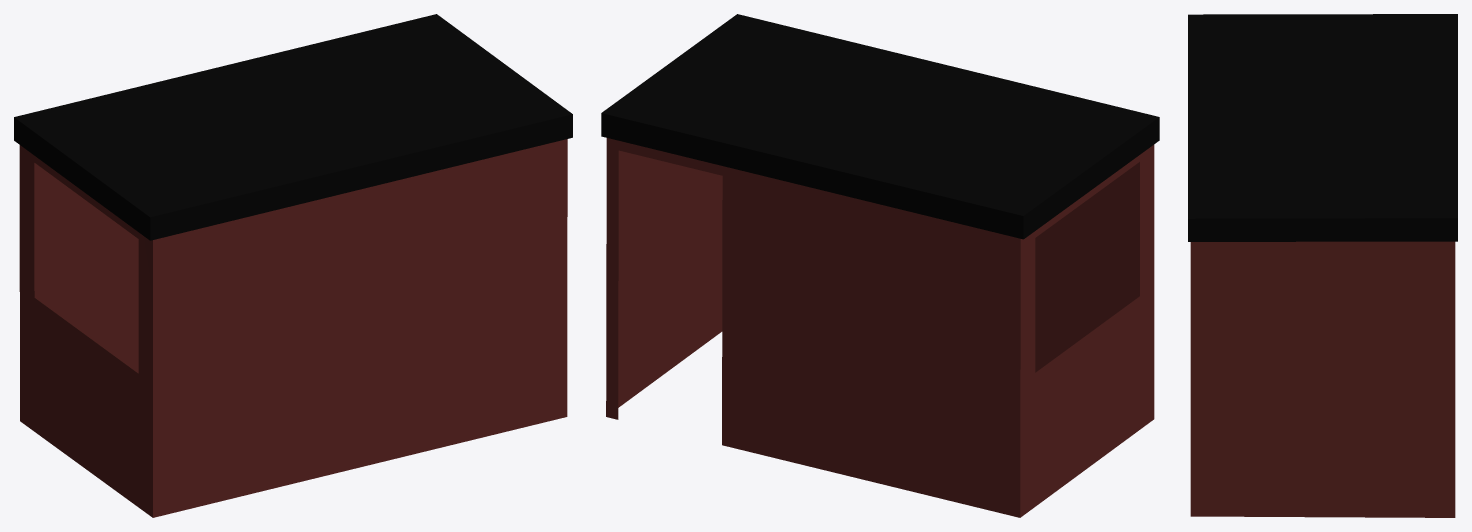
File: Bathroom.fbx
The picture shows the model from 3 angles, left to right: view 1: azimuth 30°, elevation 25°; view 2: azimuth 150°, elevation 25°; view 3: azimuth 270°, elevation 25°; orthographic projection.
Parts seen in each view (by area): view 1: Bathroom; view 2: Bathroom; view 3: Bathroom.
Part boxes in pixels (left/top/right/bottom): Bathroom: left=14, top=14, right=572, bottom=517; Bathroom: left=601, top=14, right=1159, bottom=517; Bathroom: left=1188, top=14, right=1457, bottom=517.
Bounding box in the file's own units: 340 × 234 × 190.
